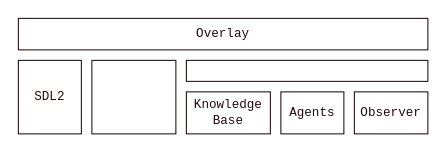
This 446x152 diagram has some shape labels left out. Here are the shapes that lost their labels. From the top down, the centre of each, then its label:
At [306,70]: "Planner".
At [133,96]: "Emulator".
